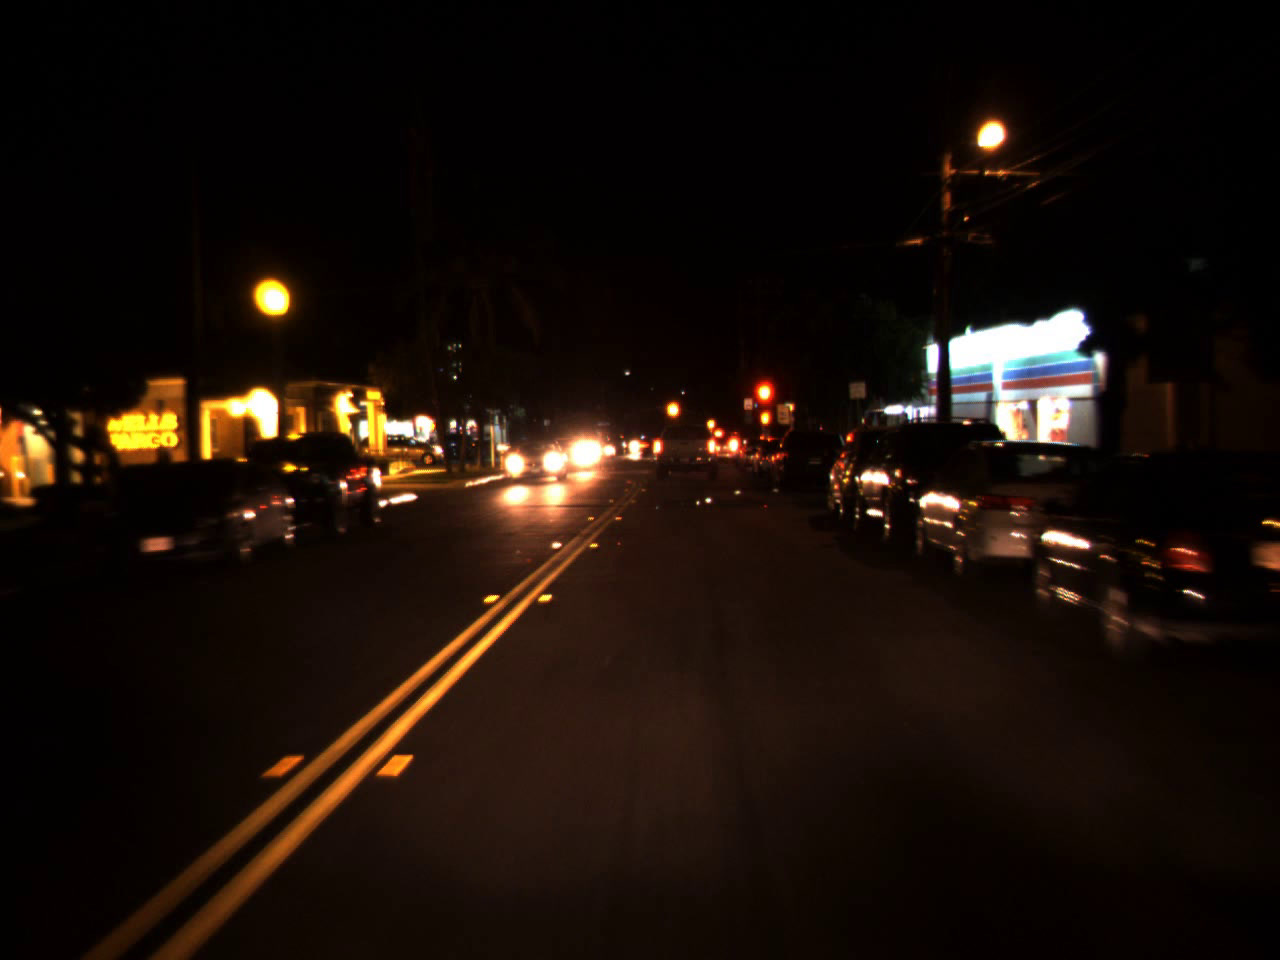stop: (750, 376, 778, 435)
warning: (666, 389, 681, 429), (706, 413, 715, 433)
